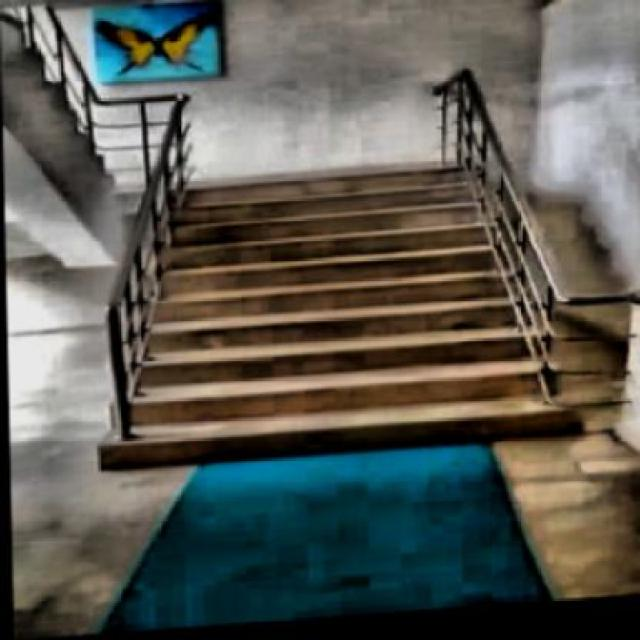stair: (111, 162, 603, 476)
